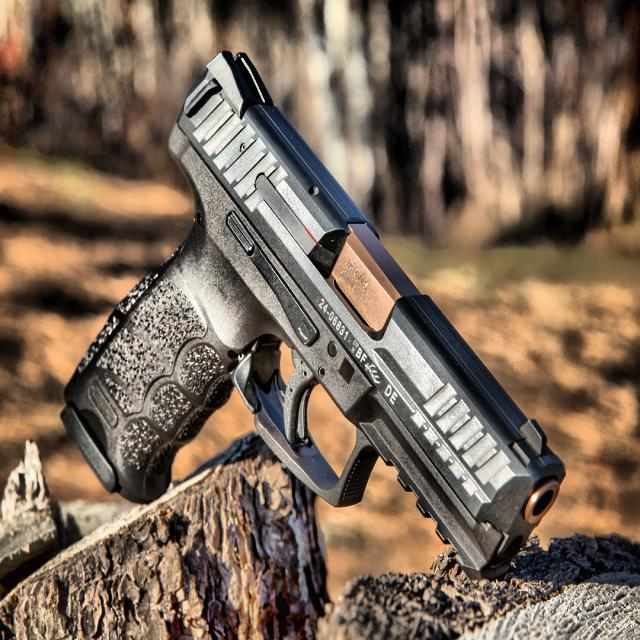HKVP9: (59, 48, 567, 580)
